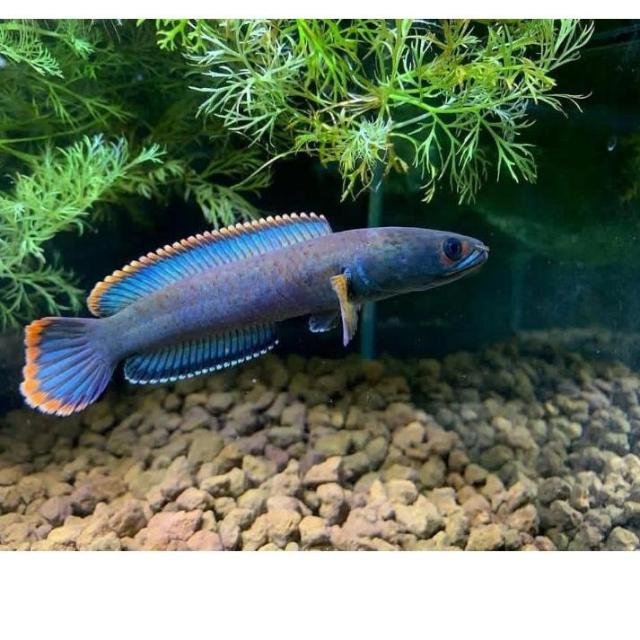Mulut: (415, 229, 513, 293)
Sirip Dada: (332, 264, 370, 356)
Sirip Ekor: (15, 314, 116, 426)
Sirip Perut: (304, 300, 344, 338)
Sirip Punggung: (68, 208, 336, 318), (116, 316, 308, 394)
